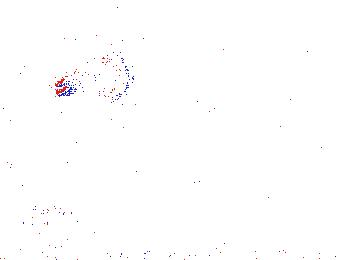flame jellyfish: (54, 46, 138, 105), (147, 151, 209, 225), (1, 170, 77, 223)
